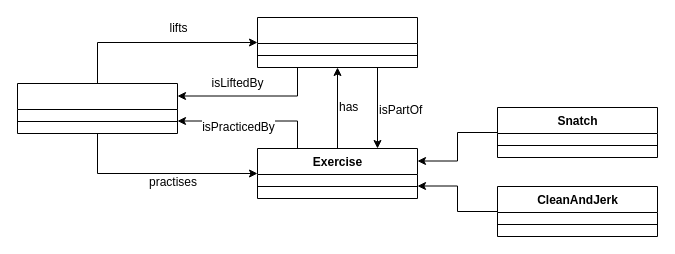
This 675x254 diagram has some shape labels left out. The shapes that lost their labels are listed below. From the top down, each one's centre as x and y in pixels, then its label:
At (x=337, y=42): "Barbel".
At (x=97, y=108): "Athlete".
